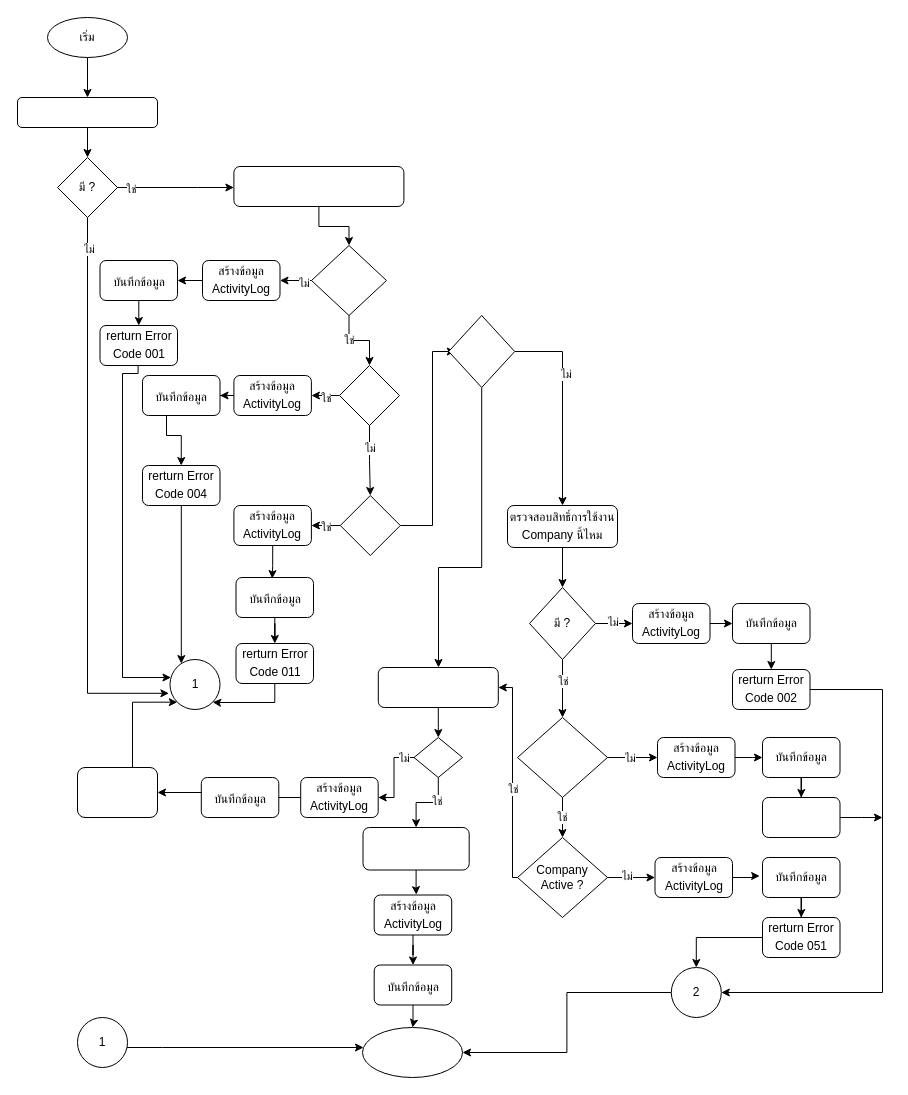
This 908x1095 diagram has some shape labels left out. Each missing label, with the centre of its shape:
"Company มีในระบบ ไหม ?" belongs at (562,757).
"Locked = 1 ?" belongs at (369,525).
"rerturn Error Code 007" belongs at (801,817).
"return Error code 117" belongs at (117,792).
"status = 1 ?" belongs at (369,395).
"Super Admin ?" belongs at (481,351).
"ดึงข้อมูลนโยบายและการจ่ายเงินปันผล" belongs at (437,687).
"ตรวจสอบ Account สถานะการใช้งาน" belongs at (318,186).
"ตรวจสอบสิทธิ์การใช้งาน" belongs at (87,112).
"มี?" belongs at (437,757).
"มีใน ระบบ ?" belongs at (348,280).
"สิ้นสุด" belongs at (412,1052).
"แก้ไขข้อมูลนโยบายและการจ่ายเงินปันผล" belongs at (415,848).
